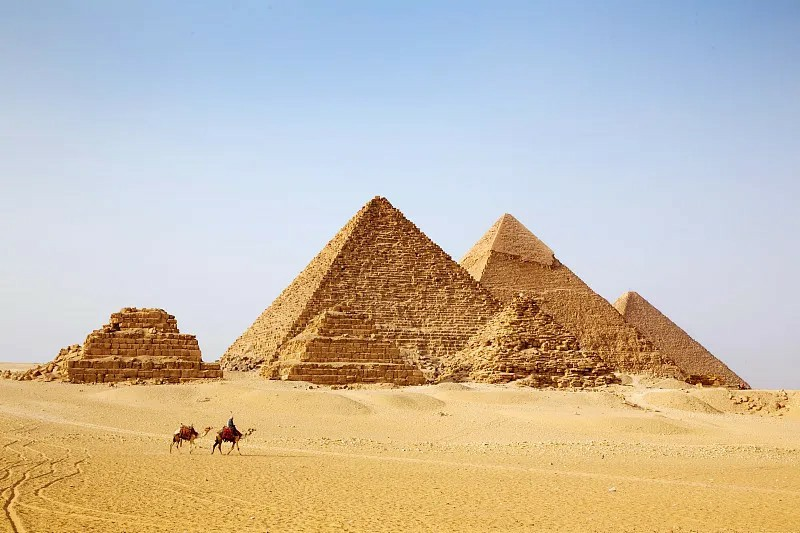Pyramid: (222, 198, 505, 379), (460, 215, 697, 386), (448, 296, 622, 387), (612, 290, 750, 391), (49, 307, 221, 384), (264, 306, 427, 386)
